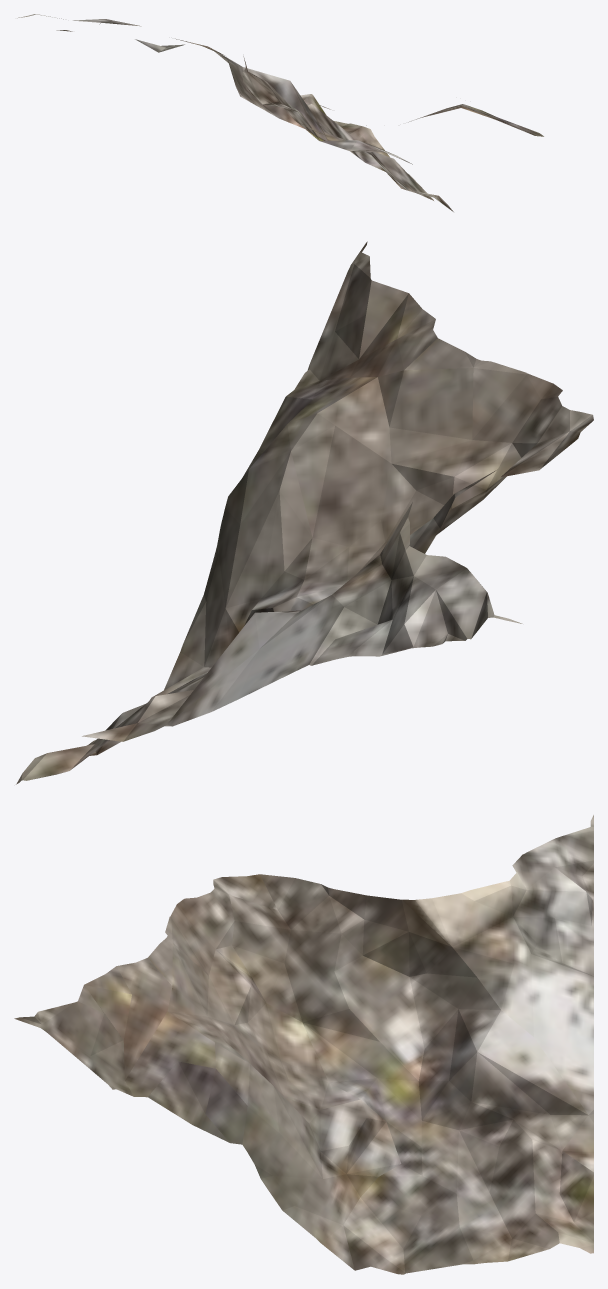
3 views of the same model, one above another, from view 1: azimuth 30°, elevation 25°; view 2: azimuth 150°, elevation 25°; view 3: azimuth 270°, elevation 25° (orthographic). The views are drawn at different scales.
Bounding box in the file's own units: 1.41 × 0.8225 × 1.69.
Materials: 1 (1 with a texture image).
